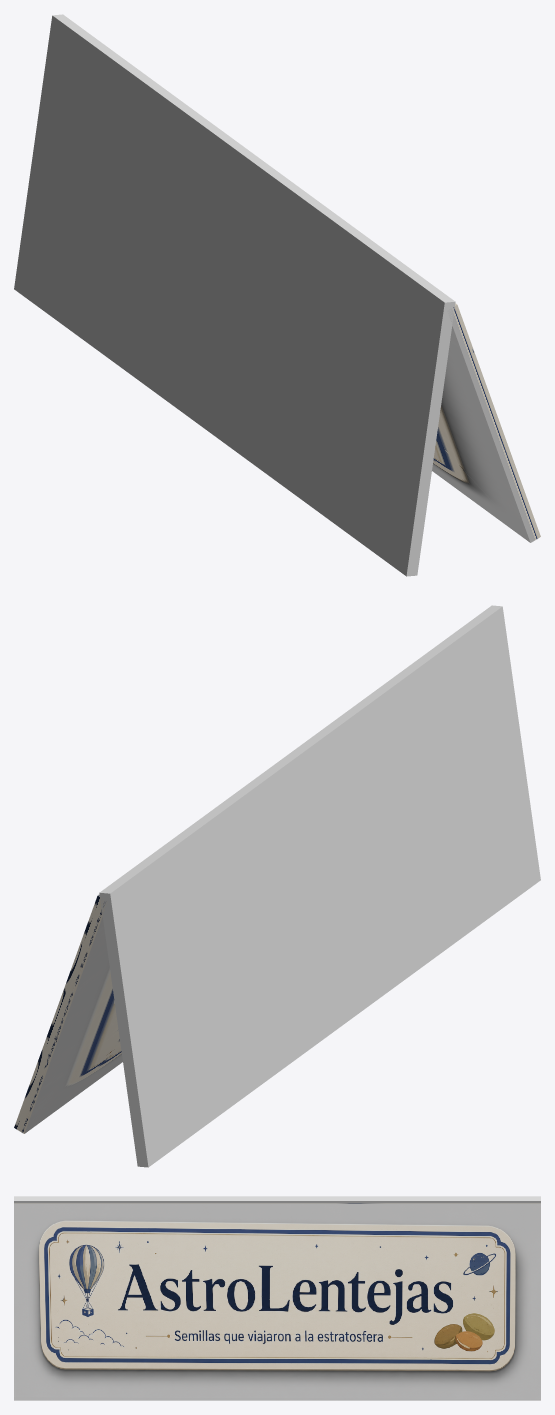
File: astrolentejas.glb
3 renders of one model, top to bottom at view 1: azimuth 30°, elevation 25°; view 2: azimuth 150°, elevation 25°; view 3: azimuth 270°, elevation 25°, orthographic. The views are drawn at different scales.
Visible parts, largest first — view 1: Cube, Cube.001; view 2: Cube, Cube.001; view 3: Cube.001, Cube.
Part boxes in pixels (box(x1,y1,x2,y2)): Cube: box(14, 14, 455, 576); Cube.001: box(432, 303, 540, 542); Cube: box(99, 605, 540, 1167); Cube.001: box(14, 894, 122, 1133); Cube.001: box(14, 1203, 540, 1400); Cube: box(14, 1196, 540, 1203).
Size of the model in its own units: 0.8928 by 1.69 by 4.51.
2 materials, 1 textured.
